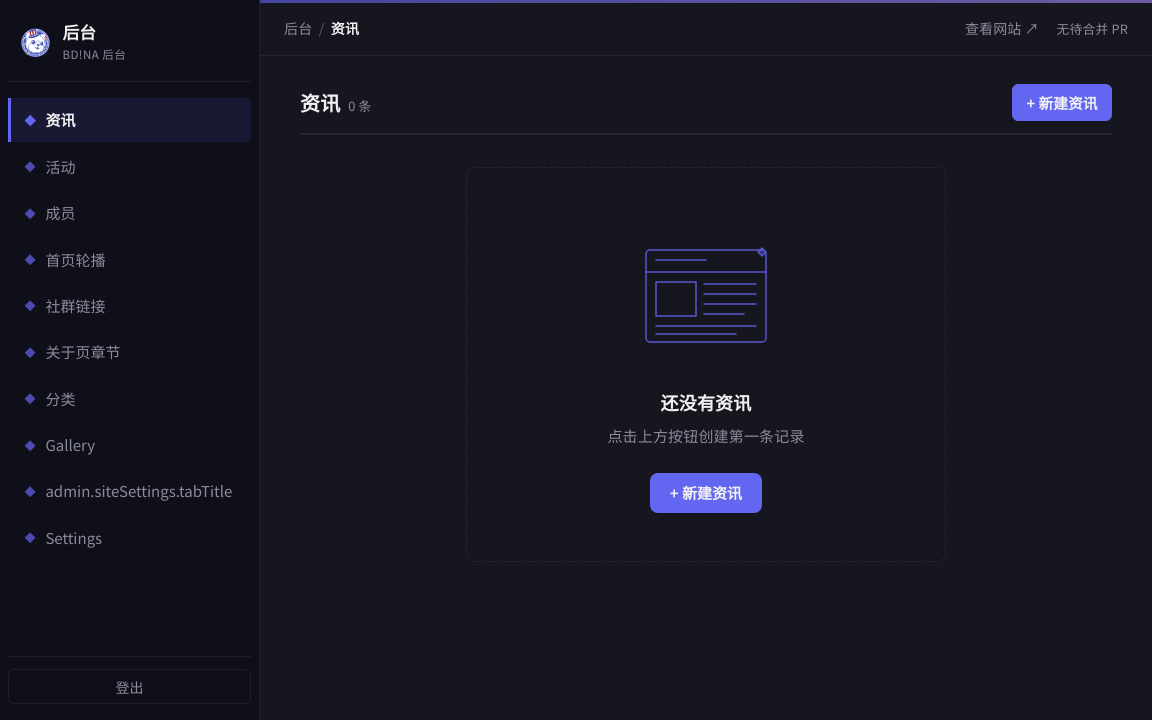
<Admin /> › clicking nav switches view
Check: the heading "还没有资讯" is shown, box 661,392 -> 751,414
Click the button "◆ 成员" at (130, 213), box 8,191 -> 251,235
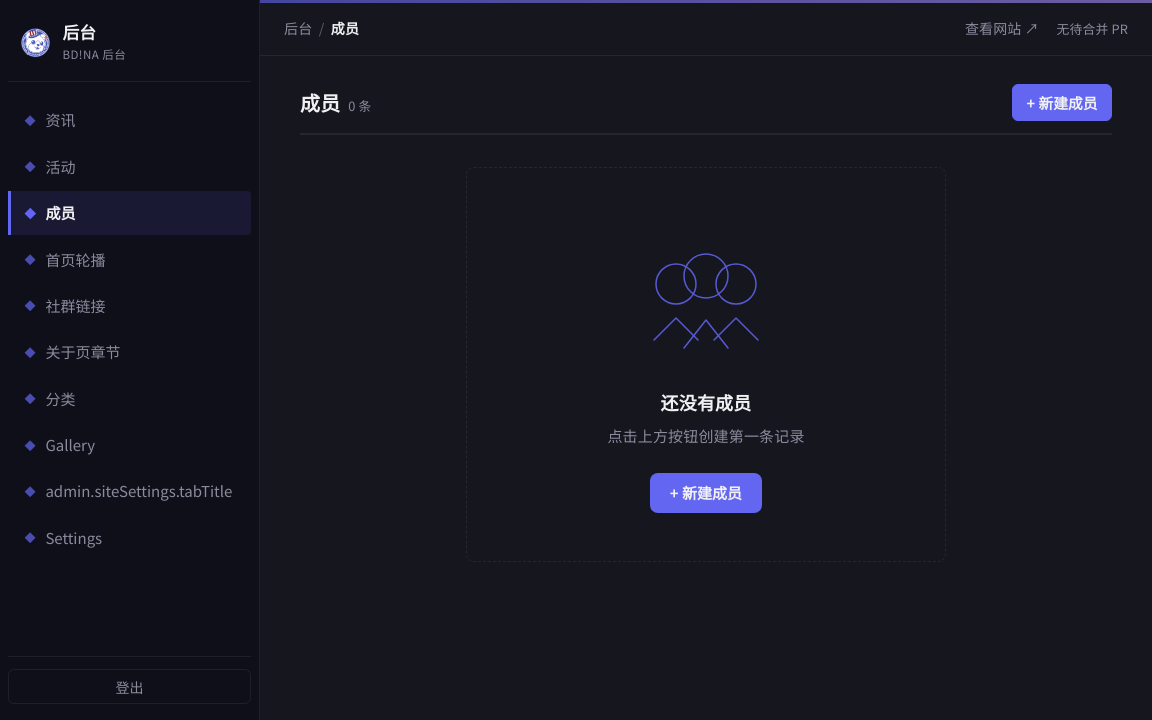
Check: the heading "还没有成员" is shown, box 661,392 -> 751,414
